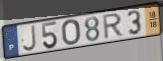3: (126, 9, 143, 36)
5: (40, 20, 59, 50)
8: (83, 15, 102, 43)
J: (21, 24, 38, 53)
O: (61, 18, 81, 46)
R: (102, 12, 125, 41)
